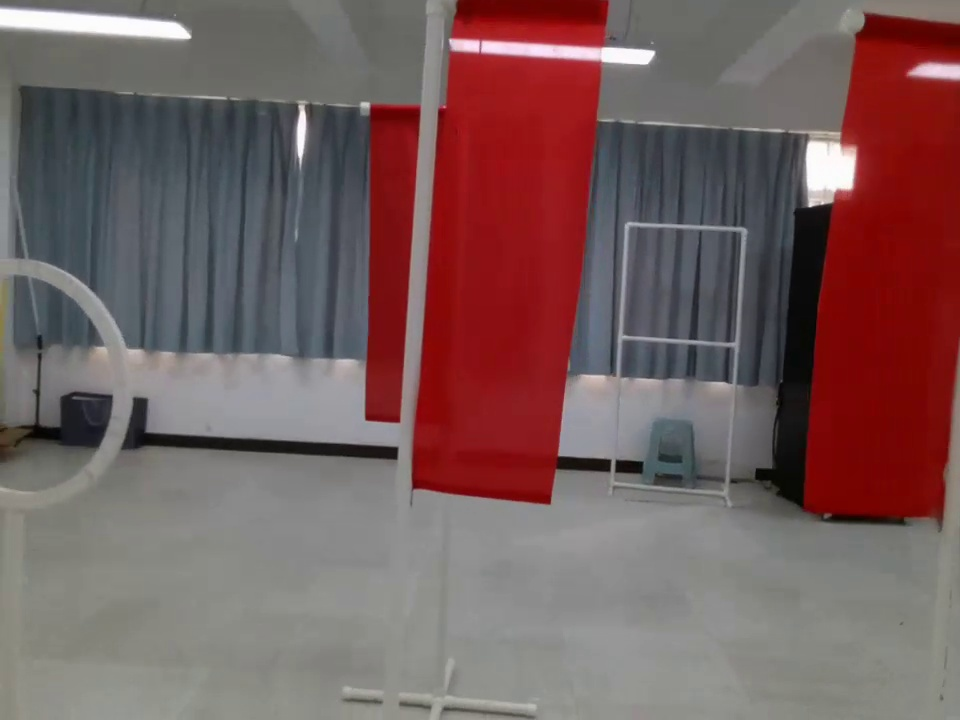qi: (414, 8, 591, 527), (819, 12, 960, 559), (345, 99, 436, 436)
quan: (1, 254, 135, 519)
